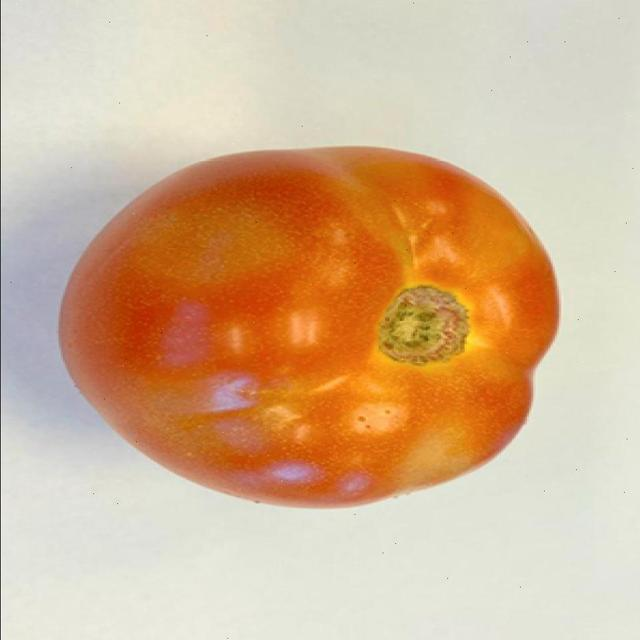Spotted wilt Virus Fruit: (14, 118, 84, 403)
